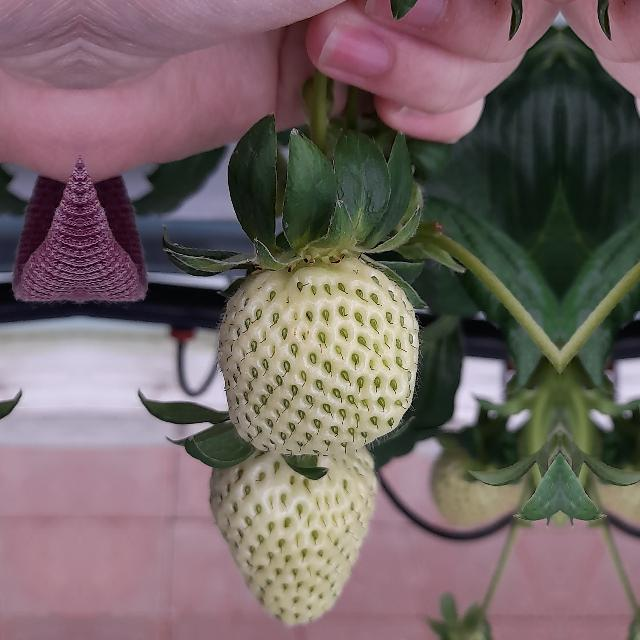Health_25: (217, 256, 419, 456), (208, 449, 378, 625)
